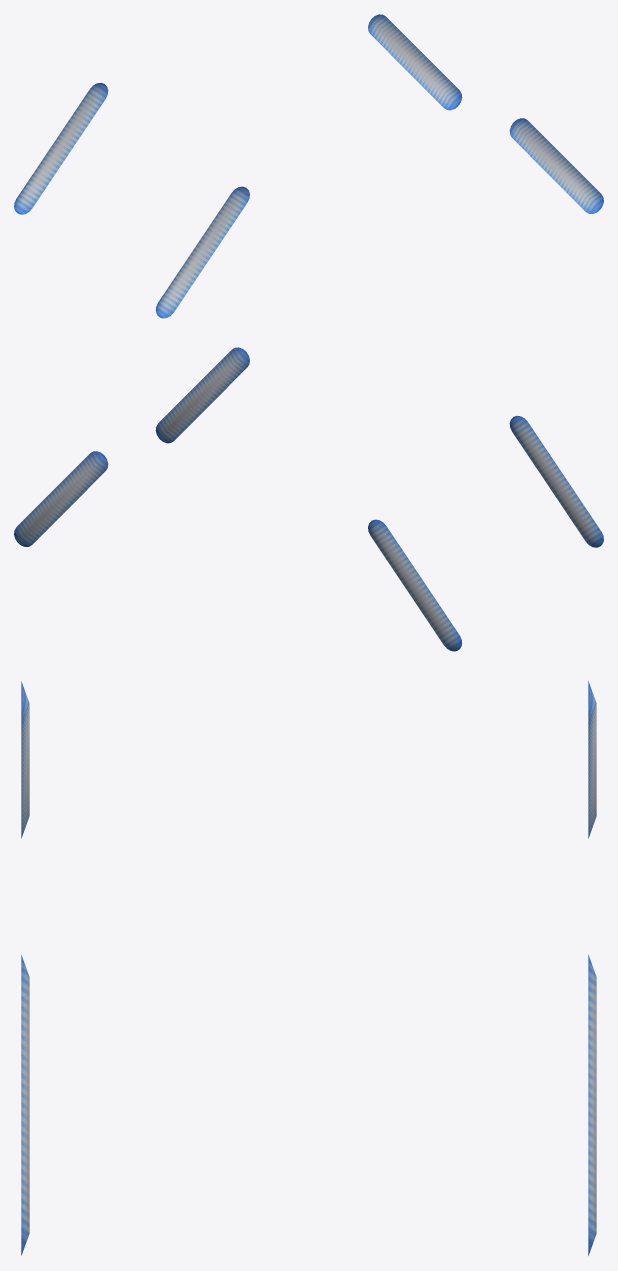
File: transport_science_engine_on_l0.fbx
3 views of the same model, one above another, from view 1: azimuth 30°, elevation 25°; view 2: azimuth 150°, elevation 25°; view 3: azimuth 270°, elevation 25° (orthographic). The views are drawn at different scales.
Parts seen in each view (by area): view 1: mesh_node; view 2: mesh_node; view 3: mesh_node.
Part boxes in pixels (x1,y1,x2,y2): mesh_node: [14, 14, 603, 318]; mesh_node: [14, 347, 603, 651]; mesh_node: [21, 681, 596, 1255].
Size of the model in its own units: 54.69 by 13.22 by 30.41.
1 material, 1 textured.
